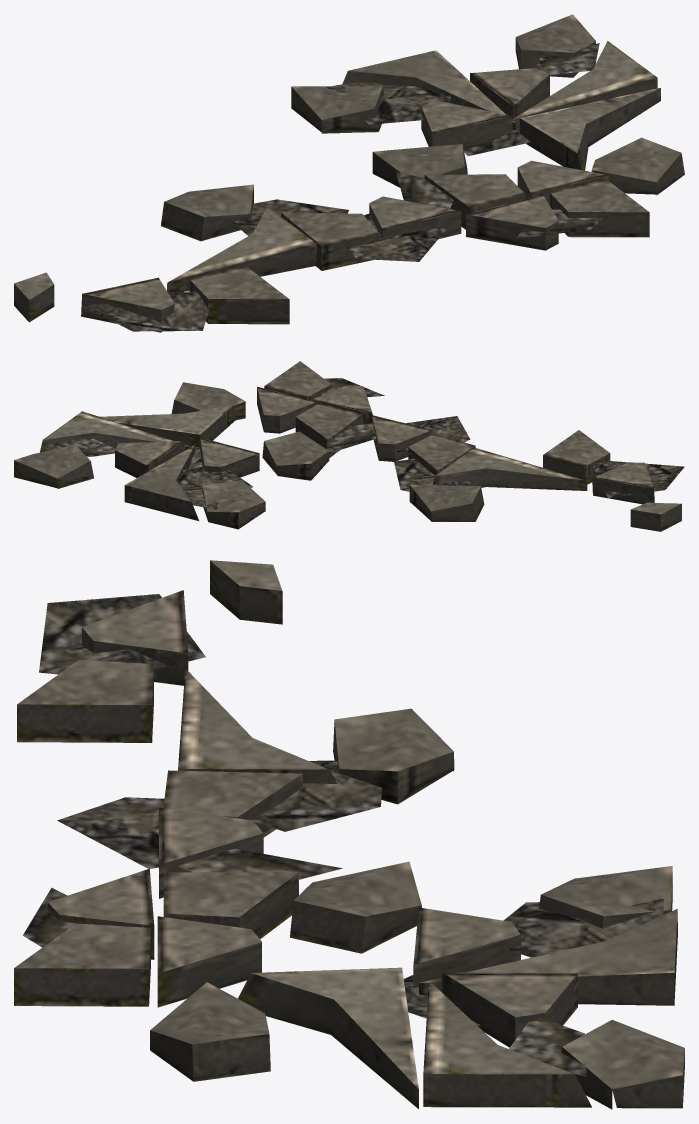
The model's file is SM_Plains_Floors_Rubble04.FBX.
3 renders of one model, top to bottom at view 1: azimuth 30°, elevation 25°; view 2: azimuth 150°, elevation 25°; view 3: azimuth 270°, elevation 25°, orthographic. The views are drawn at different scales.
Parts seen in each view (by area): view 1: SM_Plains_Floors_Rubble04; view 2: SM_Plains_Floors_Rubble04; view 3: SM_Plains_Floors_Rubble04.
Boxes of the visible parts, x1,y1,x2,y2 form: SM_Plains_Floors_Rubble04: [14, 14, 684, 332]; SM_Plains_Floors_Rubble04: [14, 361, 684, 531]; SM_Plains_Floors_Rubble04: [14, 560, 684, 1109].
Bounding box in the file's own units: 167 × 7.12 × 92.18.
